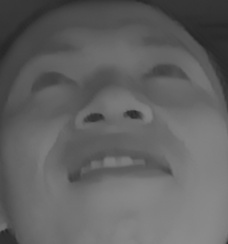eye: (141, 55, 193, 85), (25, 68, 74, 99)
mouth: (62, 138, 180, 197)
